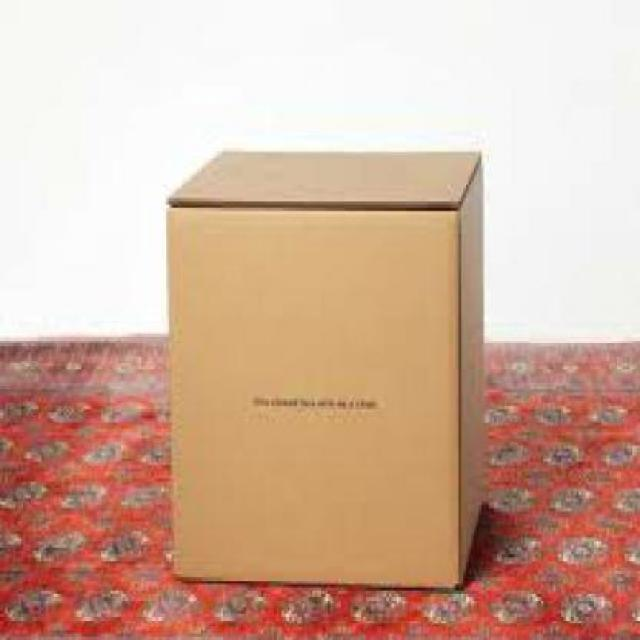box: (138, 138, 530, 600)
